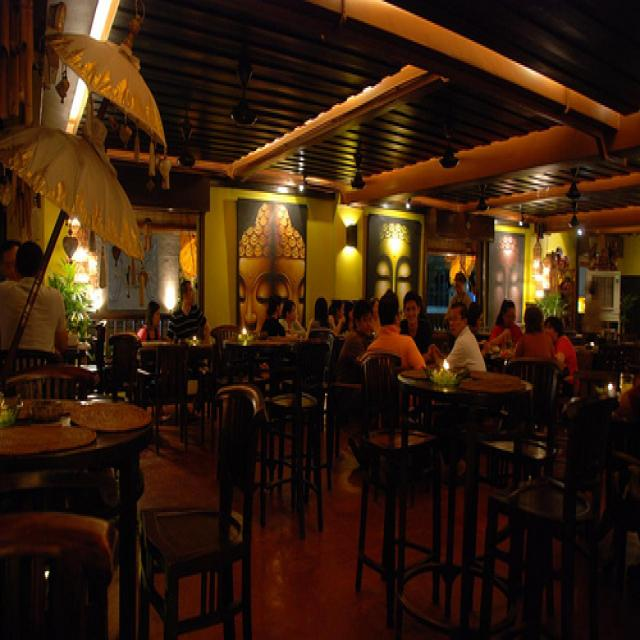People: (0, 225, 73, 384), (367, 275, 417, 384), (539, 302, 585, 392), (439, 295, 476, 390), (512, 286, 546, 386), (492, 277, 528, 367), (308, 276, 346, 347), (174, 271, 209, 342), (280, 260, 308, 341), (447, 252, 480, 318), (137, 284, 162, 367), (257, 281, 284, 355), (402, 280, 428, 353)
Table: (402, 357, 537, 555), (0, 368, 157, 513)
chair: (144, 371, 273, 640), (524, 390, 619, 637), (0, 505, 120, 640), (345, 330, 415, 559), (281, 331, 337, 517), (0, 331, 67, 403), (83, 317, 117, 373)
